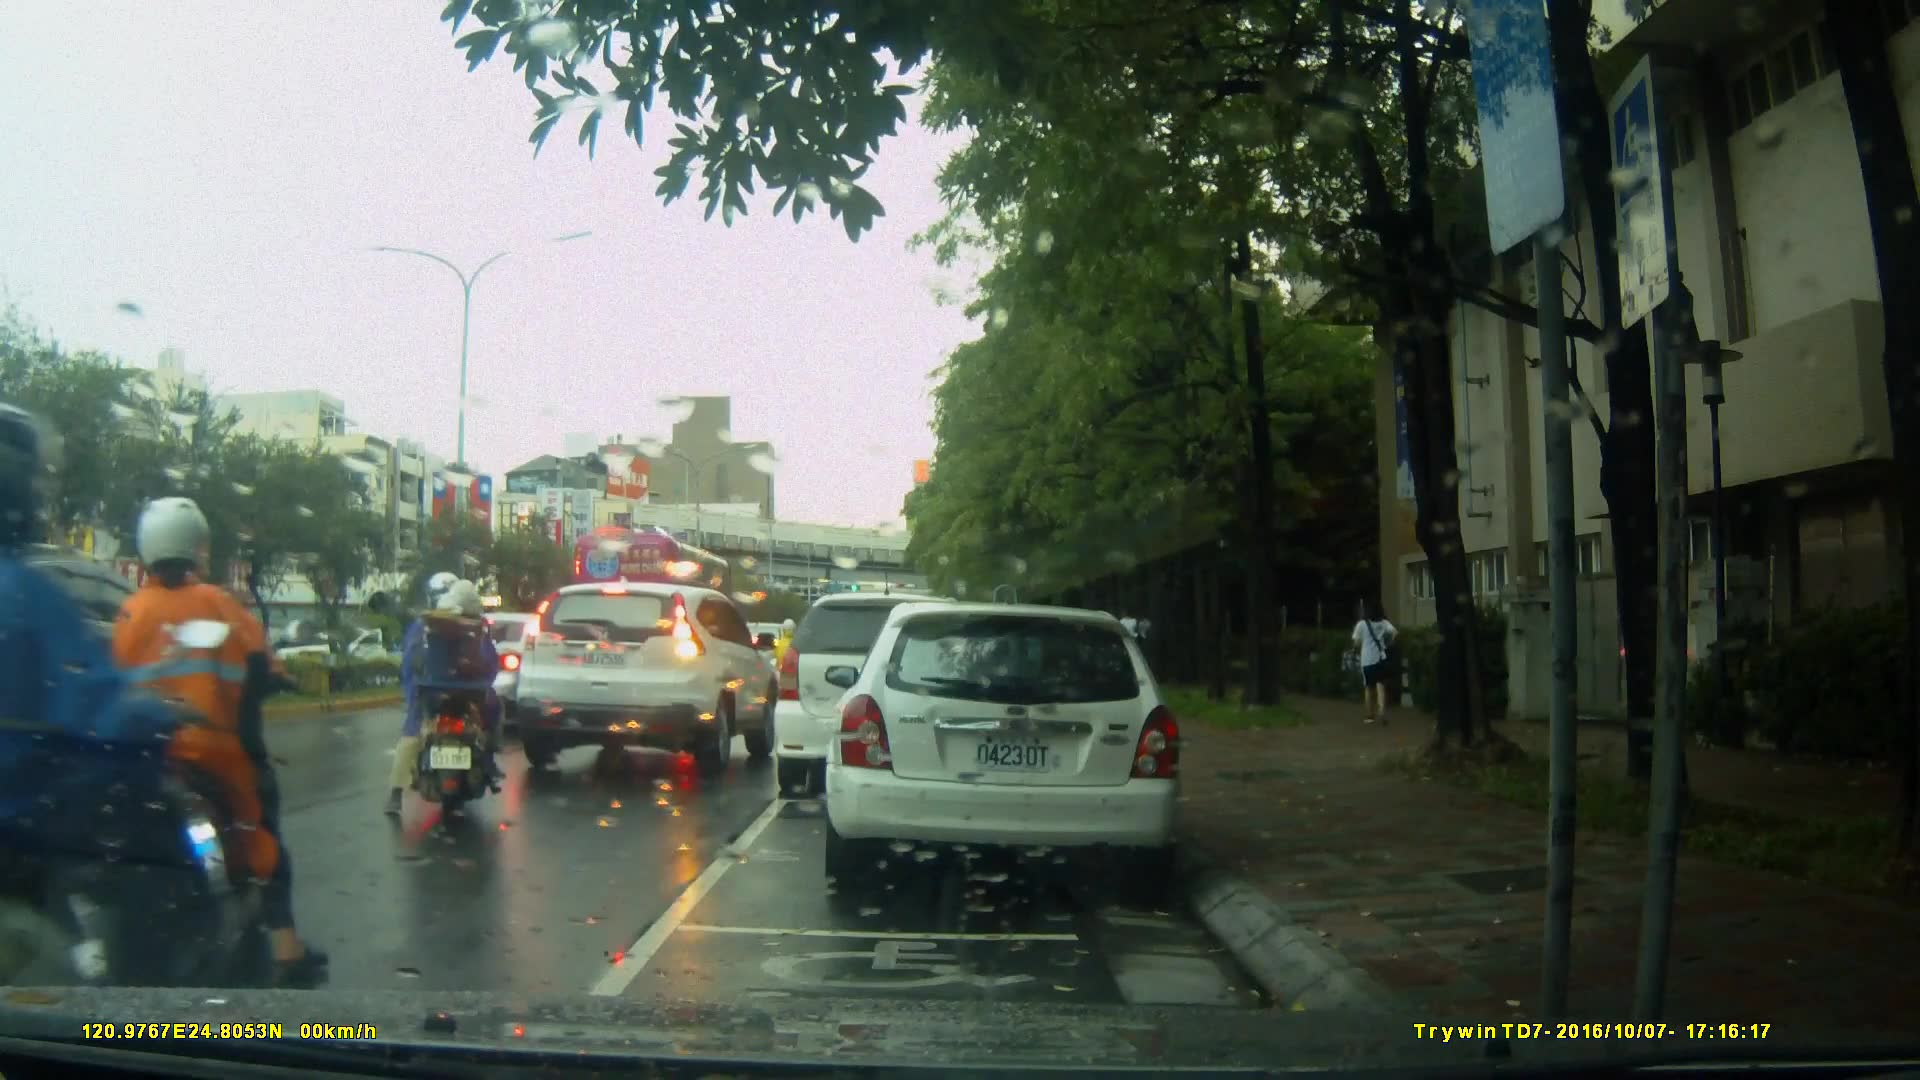pedestrian: (1339, 586, 1404, 742), (1116, 602, 1148, 687)
rider: (17, 497, 307, 993), (1, 421, 219, 1065), (388, 580, 517, 825), (770, 614, 802, 712)
vehicle: (835, 594, 1194, 898), (506, 583, 786, 779), (1, 541, 221, 767), (776, 590, 1026, 784), (568, 528, 735, 635)
